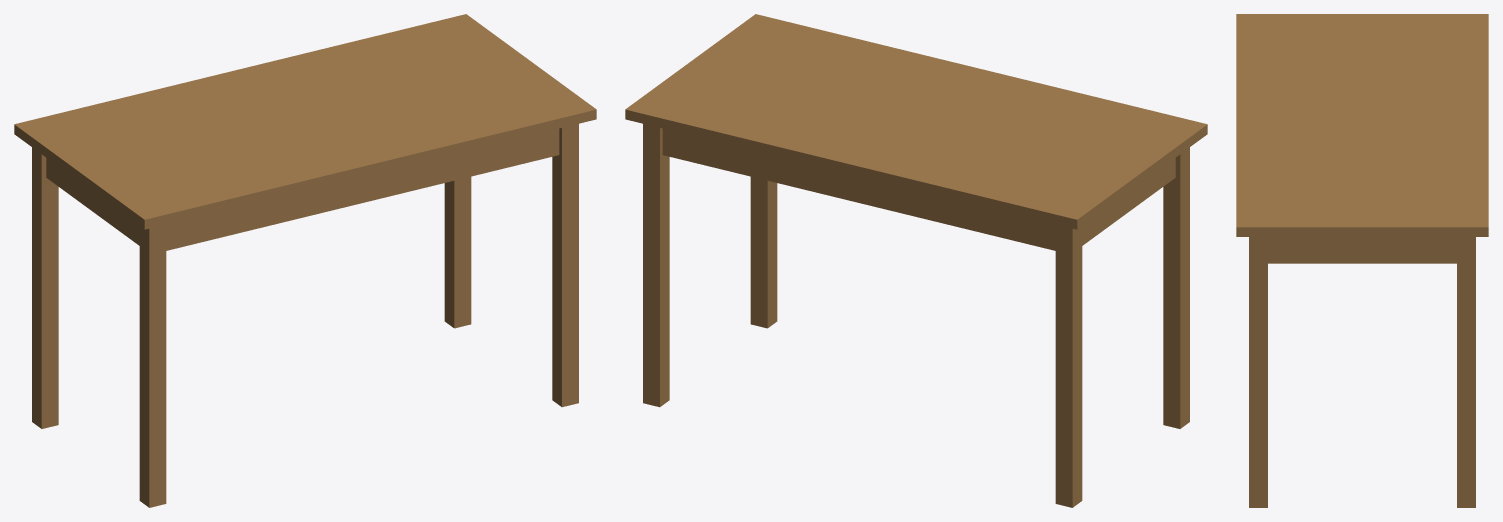
Rendered from HIN-DSK-std.glb.
3 views of the same model, side by side, from view 1: azimuth 30°, elevation 25°; view 2: azimuth 150°, elevation 25°; view 3: azimuth 270°, elevation 25° (orthographic). The views are drawn at different scales.
Parts seen in each view (by area): view 1: top:pbr, apron-f:pbr, leg-fl:pbr, leg-fr:pbr, leg-bl:pbr, leg-br:pbr, apron-l:pbr; view 2: top:pbr, apron-b:pbr, leg-bl:pbr, leg-br:pbr, leg-fl:pbr, leg-fr:pbr, apron-l:pbr; view 3: top:pbr, leg-fr:pbr, leg-br:pbr, apron-r:pbr.
Boxes of the visible parts, left/top/right/bottom form: top:pbr: left=14, top=14, right=596, bottom=229; apron-f:pbr: left=166, top=128, right=559, bottom=250; leg-fl:pbr: left=139, top=224, right=166, bottom=507; leg-fr:pbr: left=552, top=124, right=578, bottom=407; leg-bl:pbr: left=32, top=147, right=58, bottom=428; leg-br:pbr: left=444, top=176, right=471, bottom=328; apron-l:pbr: left=46, top=158, right=139, bottom=245; top:pbr: left=625, top=14, right=1207, bottom=229; apron-b:pbr: left=662, top=128, right=1055, bottom=250; leg-bl:pbr: left=1055, top=224, right=1082, bottom=507; leg-br:pbr: left=643, top=124, right=669, bottom=407; leg-fl:pbr: left=1163, top=147, right=1189, bottom=428; leg-fr:pbr: left=750, top=176, right=777, bottom=328; apron-l:pbr: left=1082, top=158, right=1175, bottom=245; top:pbr: left=1236, top=14, right=1488, bottom=236; leg-fr:pbr: left=1249, top=237, right=1267, bottom=507; leg-br:pbr: left=1457, top=237, right=1475, bottom=507; apron-r:pbr: left=1268, top=237, right=1456, bottom=263.
Size of the model in its own units: 1.2 by 0.75 by 0.6.
